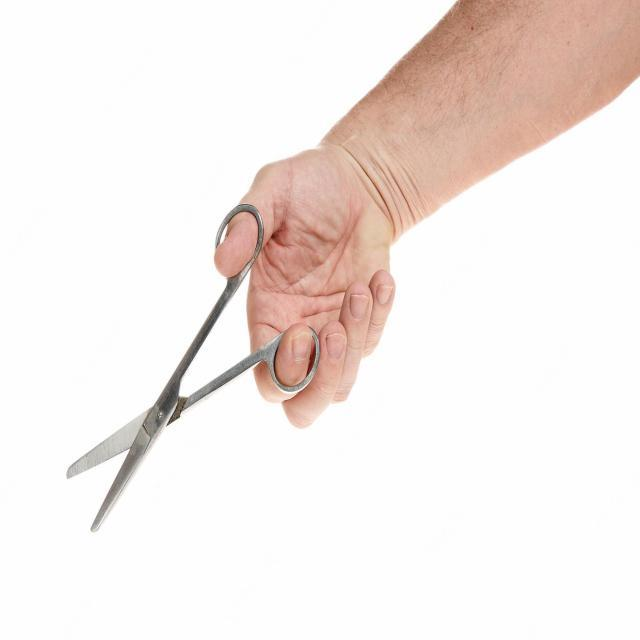scissors: (64, 201, 321, 535)
